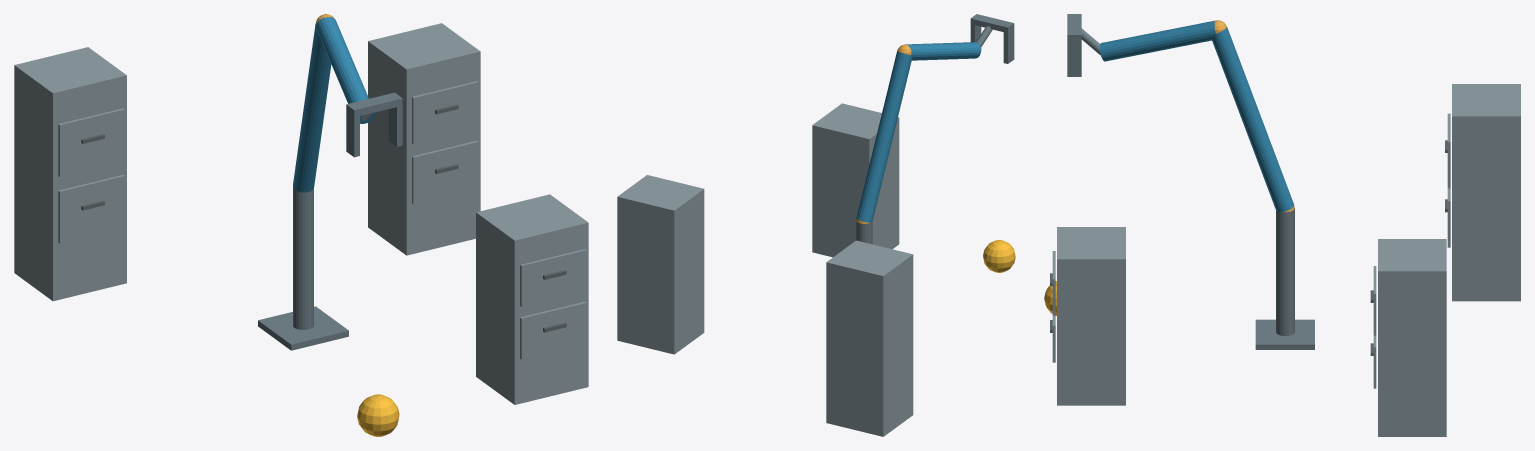
3 renders of one model, left to right at view 1: azimuth 30°, elevation 25°; view 2: azimuth 150°, elevation 25°; view 3: azimuth 270°, elevation 25°, orthographic. The views are drawn at different scales.
Parts seen in each view (by area): view 1: cabinet_3 body, cabinet_2 body, cabinet_1 body, cabinet_3 drawer front, cabinet_3 drawer front.001, moving link 1, cabinet_2 drawer front.001, cabinet_2 drawer front, fixed post, cabinet_1 drawer front.001, cabinet_1 drawer front, pedestal (+4 smaller); view 2: cabinet_3 body, cabinet_2 body, cabinet_1 body, moving link 1, moving link 2, ball ball_1, gripper bridge; view 3: cabinet_3 body, cabinet_2 body, cabinet_1 body, moving link 1, fixed post, moving link 2, pedestal, gripper finger 1.
Part boxes in pixels (x1=…): cabinet_3 body: x1=14, y1=47, x2=126, y2=301; cabinet_2 body: x1=368, y1=23, x2=480, y2=255; cabinet_1 body: x1=476, y1=194, x2=588, y2=404; cabinet_3 drawer front: x1=58, y1=175, x2=124, y2=243; cabinet_3 drawer front.001: x1=58, y1=108, x2=124, y2=176; moving link 1: x1=293, y1=23, x2=331, y2=192; cabinet_2 drawer front.001: x1=412, y1=81, x2=478, y2=144; cabinet_2 drawer front: x1=412, y1=140, x2=478, y2=203; fixed post: x1=293, y1=187, x2=313, y2=329; cabinet_1 drawer front.001: x1=520, y1=249, x2=586, y2=306; cabinet_1 drawer front: x1=520, y1=301, x2=586, y2=359; pedestal: x1=258, y1=306, x2=348, y2=350; cabinet_3 body: x1=826, y1=240, x2=913, y2=436; cabinet_2 body: x1=617, y1=175, x2=704, y2=354; cabinet_1 body: x1=812, y1=103, x2=899, y2=257; moving link 1: x1=856, y1=51, x2=911, y2=222; moving link 2: x1=906, y1=42, x2=981, y2=60; ball ball_1: x1=983, y1=240, x2=1015, y2=272; gripper bridge: x1=970, y1=14, x2=1014, y2=32; cabinet_3 body: x1=1452, y1=84, x2=1520, y2=301; cabinet_2 body: x1=1378, y1=239, x2=1446, y2=436; cabinet_1 body: x1=1057, y1=227, x2=1125, y2=405; moving link 1: x1=1212, y1=27, x2=1293, y2=212; fixed post: x1=1276, y1=208, x2=1294, y2=335; moving link 2: x1=1099, y1=20, x2=1215, y2=61; pedestal: x1=1255, y1=319, x2=1314, y2=349; gripper finger 1: x1=1067, y1=41, x2=1081, y2=76.
Bounding box in the file's own units: 1.67 × 1.44 × 2.01.
